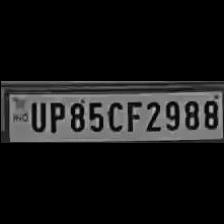2: (142, 98, 160, 132)
5: (85, 97, 105, 132)
8: (65, 99, 85, 133), (181, 97, 199, 131), (200, 97, 218, 131)
9: (162, 97, 180, 131)
C: (104, 98, 122, 132)
F: (122, 98, 142, 132)
P: (45, 99, 65, 133)
U: (25, 99, 45, 133)
